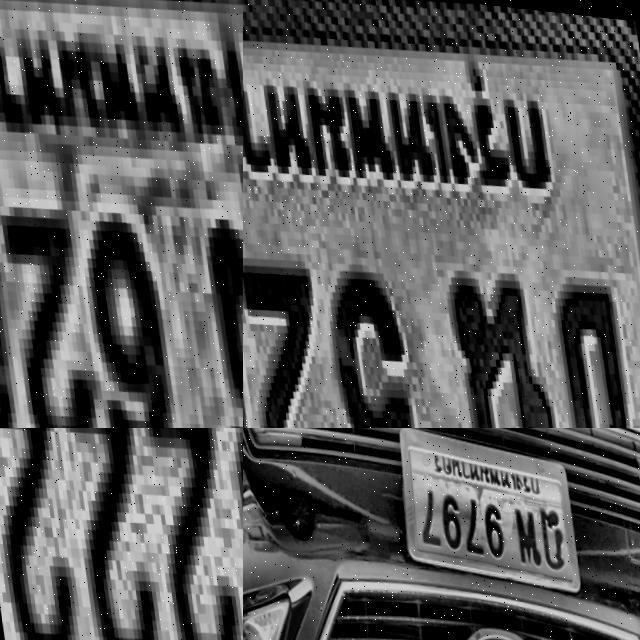license-plate: (243, 0, 640, 428), (0, 0, 243, 428), (0, 428, 243, 640), (384, 428, 575, 593)
